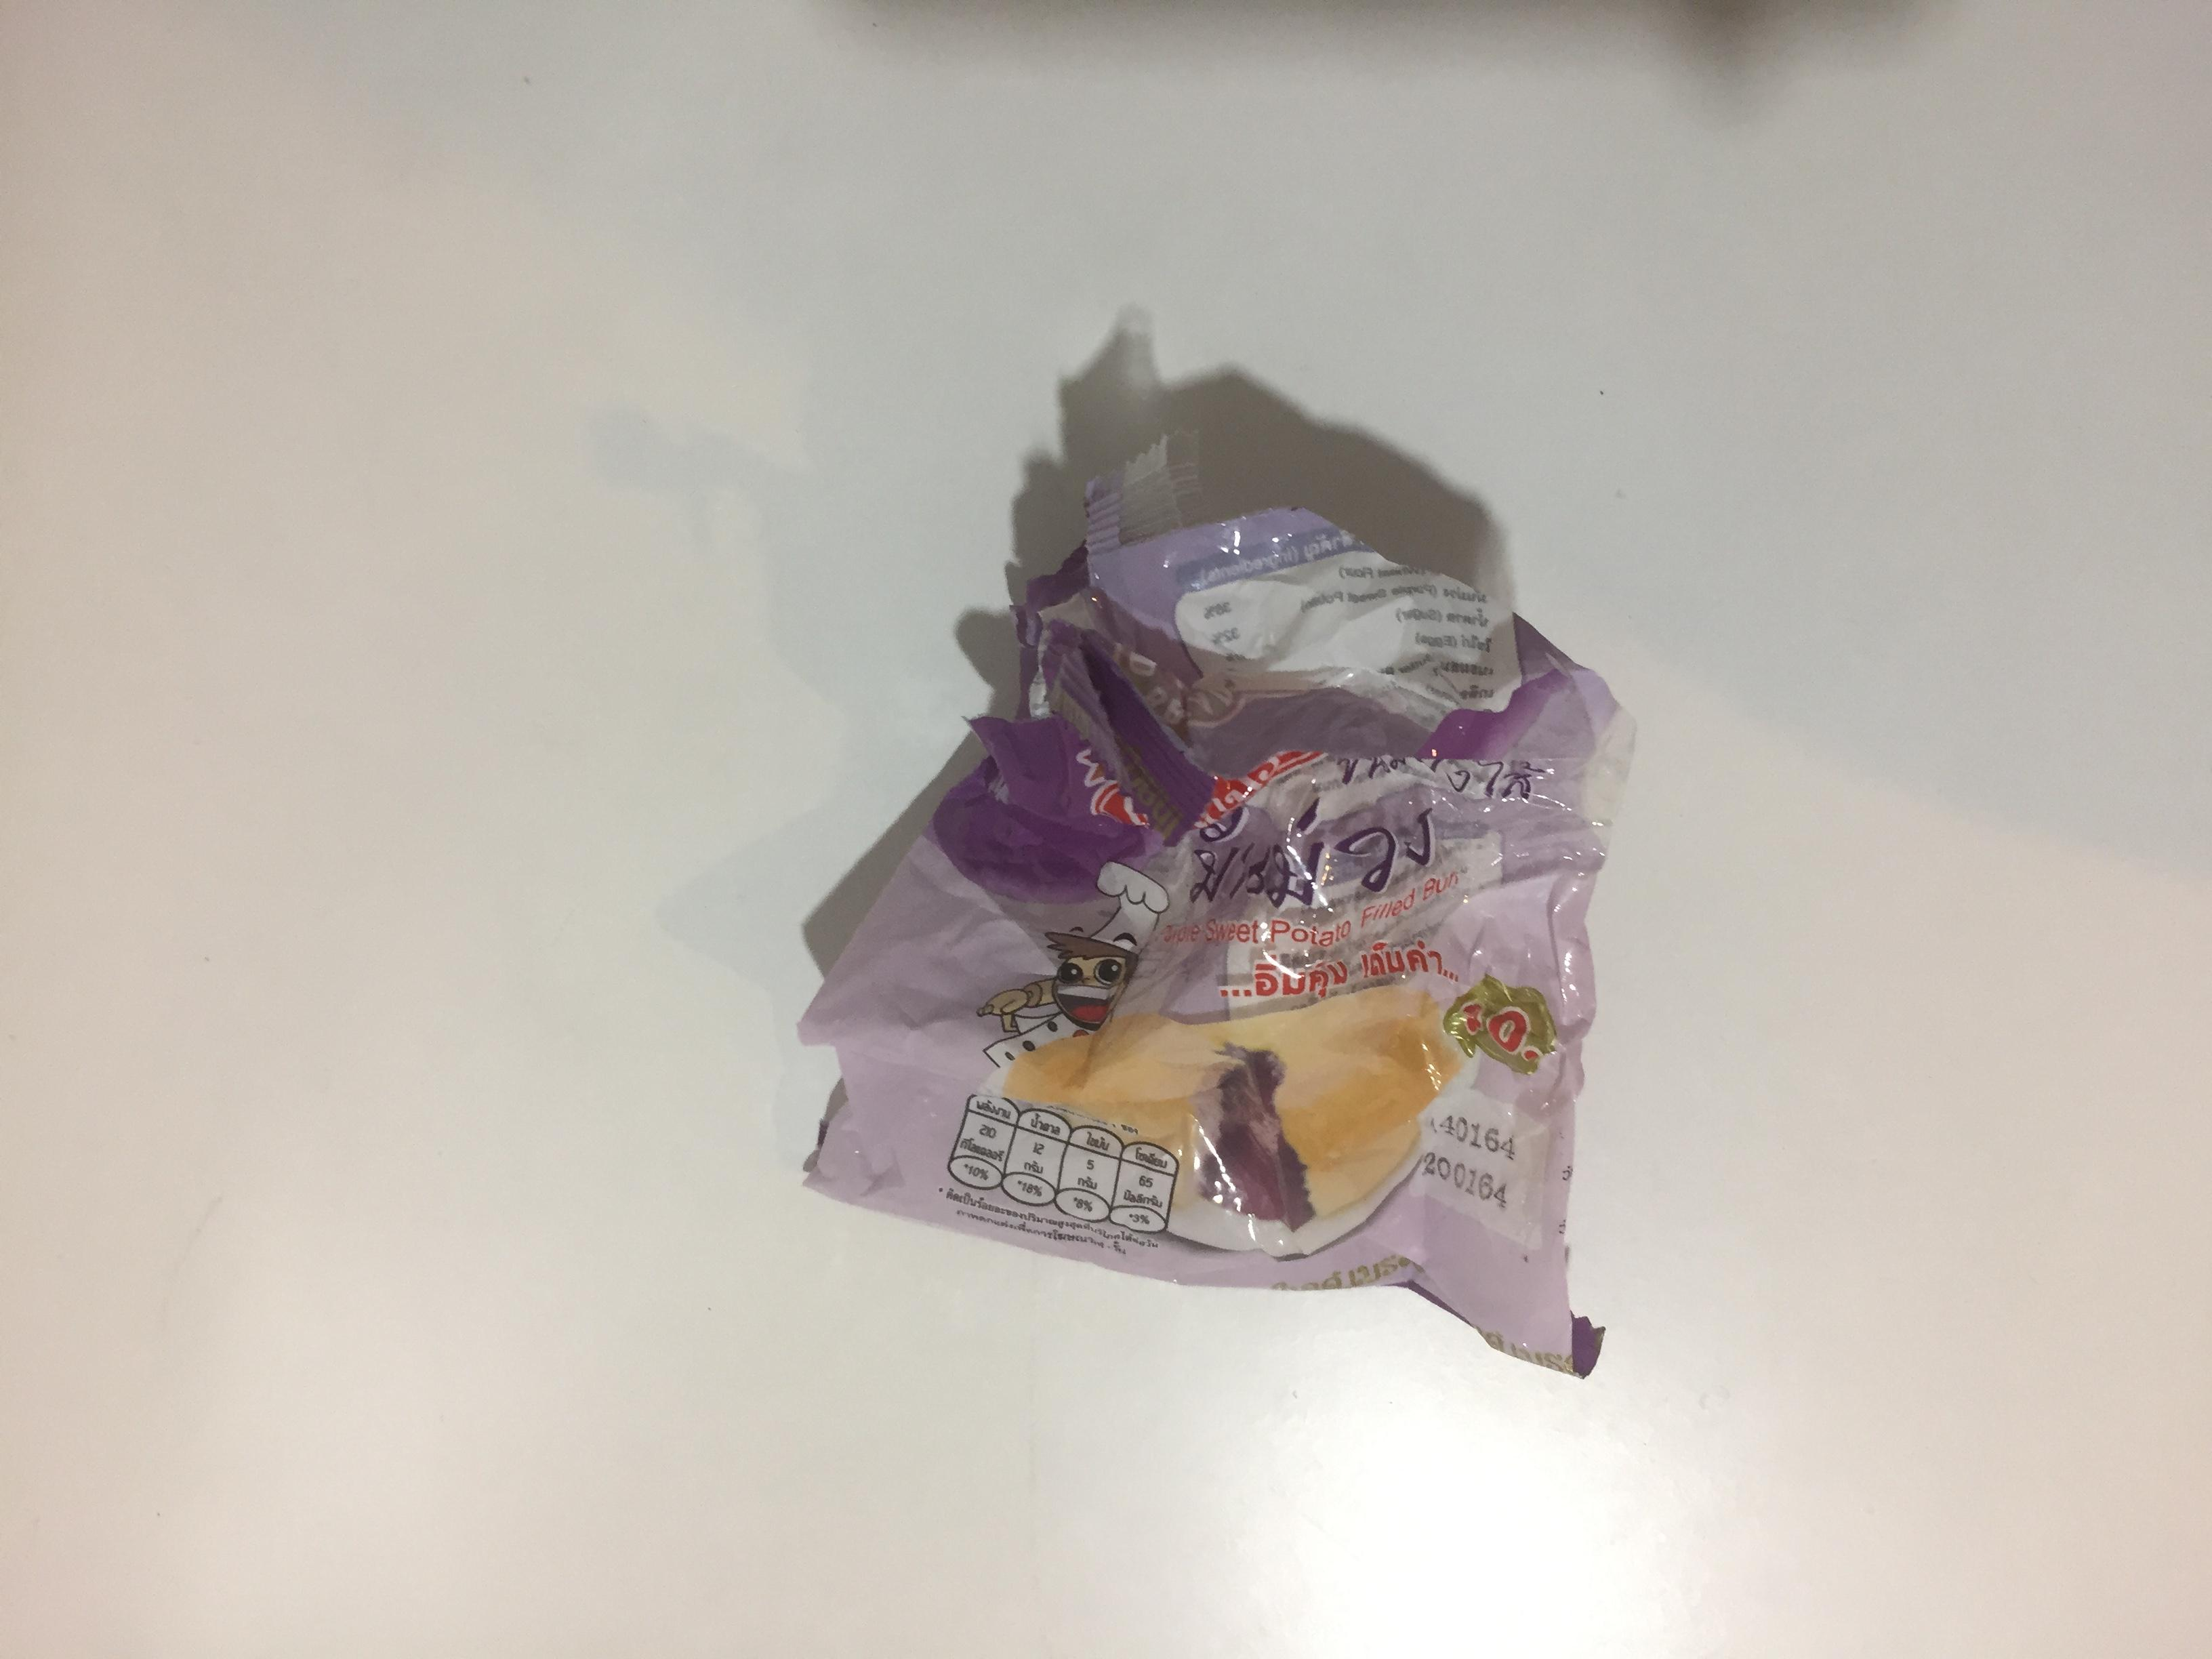plastic: (559, 228, 1420, 1249)
